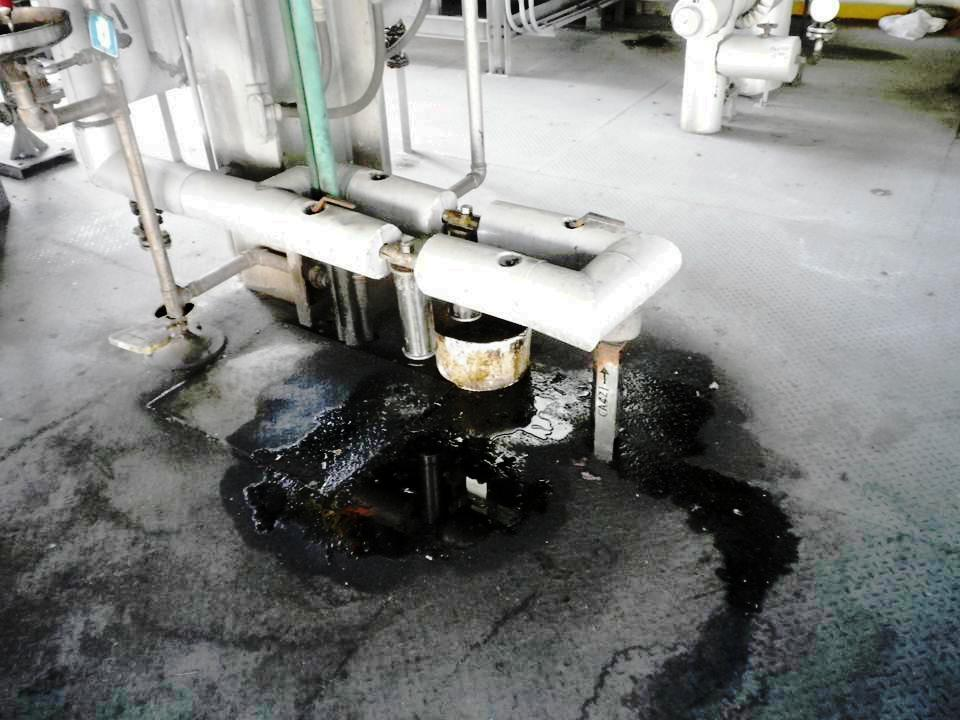water accumulation: (226, 310, 804, 720)
